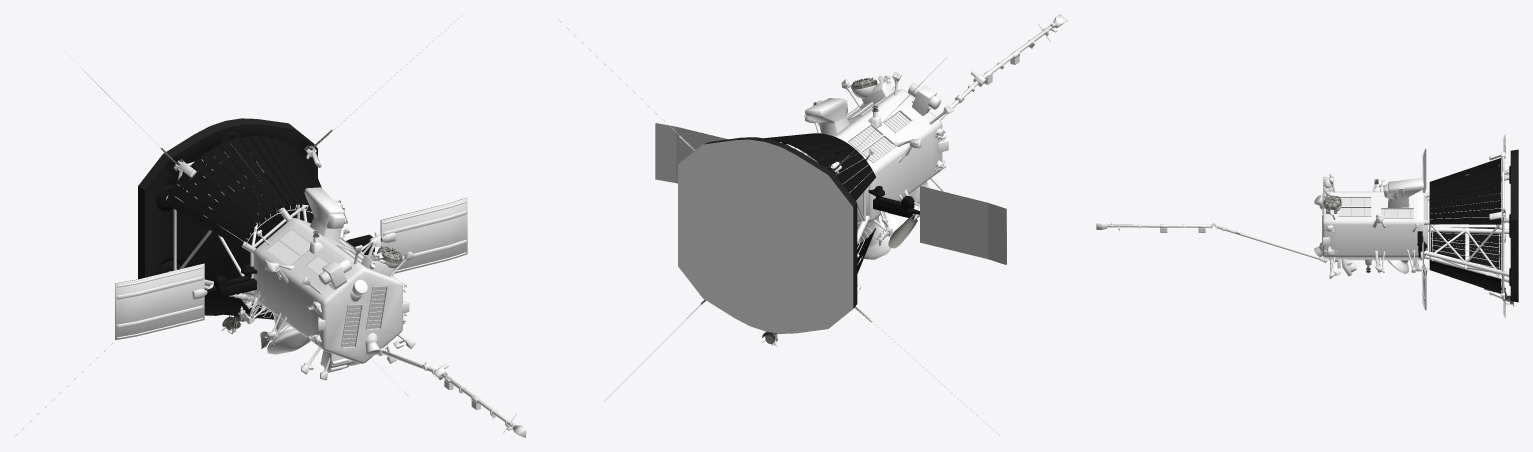
The model's file is PSP.fbx.
3 renders of one model, left to right at view 1: azimuth 30°, elevation 25°; view 2: azimuth 150°, elevation 25°; view 3: azimuth 270°, elevation 25°, orthographic. The views are drawn at different scales.
Visible parts, largest first — view 1: BUS, Instruments, CoolingSystem, solarWing_LeftBacking, solarWing_RightBacking, vents, solarArray_arms, boom, heatShield_Mounting, HGA; view 2: Instruments, BUS, CoolingSystem, vents, boom, solarArray_arms; view 3: BUS, CoolingSystem, Instruments, vents, boom, CoolingSystem_frame.
Part boxes in pixels (x1,y1,x2,y2): BUS: (165,143,415,380); Instruments: (115,118,466,348); CoolingSystem: (165,136,321,319); solarWing_LeftBacking: (115,263,204,339); solarWing_RightBacking: (381,198,467,273); vents: (265,228,387,348); solarArray_arms: (192,232,395,299); boom: (377,345,526,437); heatShield_Mounting: (156,131,242,294); HGA: (267,331,310,354); Instruments: (655,77,1006,346); BUS: (788,72,953,294); CoolingSystem: (764,133,875,273); vents: (846,97,912,162); boom: (939,14,1067,120); solarArray_arms: (868,186,919,217); BUS: (1314,151,1509,300); CoolingSystem: (1429,158,1501,293); Instruments: (1323,134,1518,317); vents: (1322,196,1414,242); boom: (1096,222,1327,263); CoolingSystem_frame: (1429,165,1511,304).
Bounding box in the file's own units: 575 × 526 × 661.
